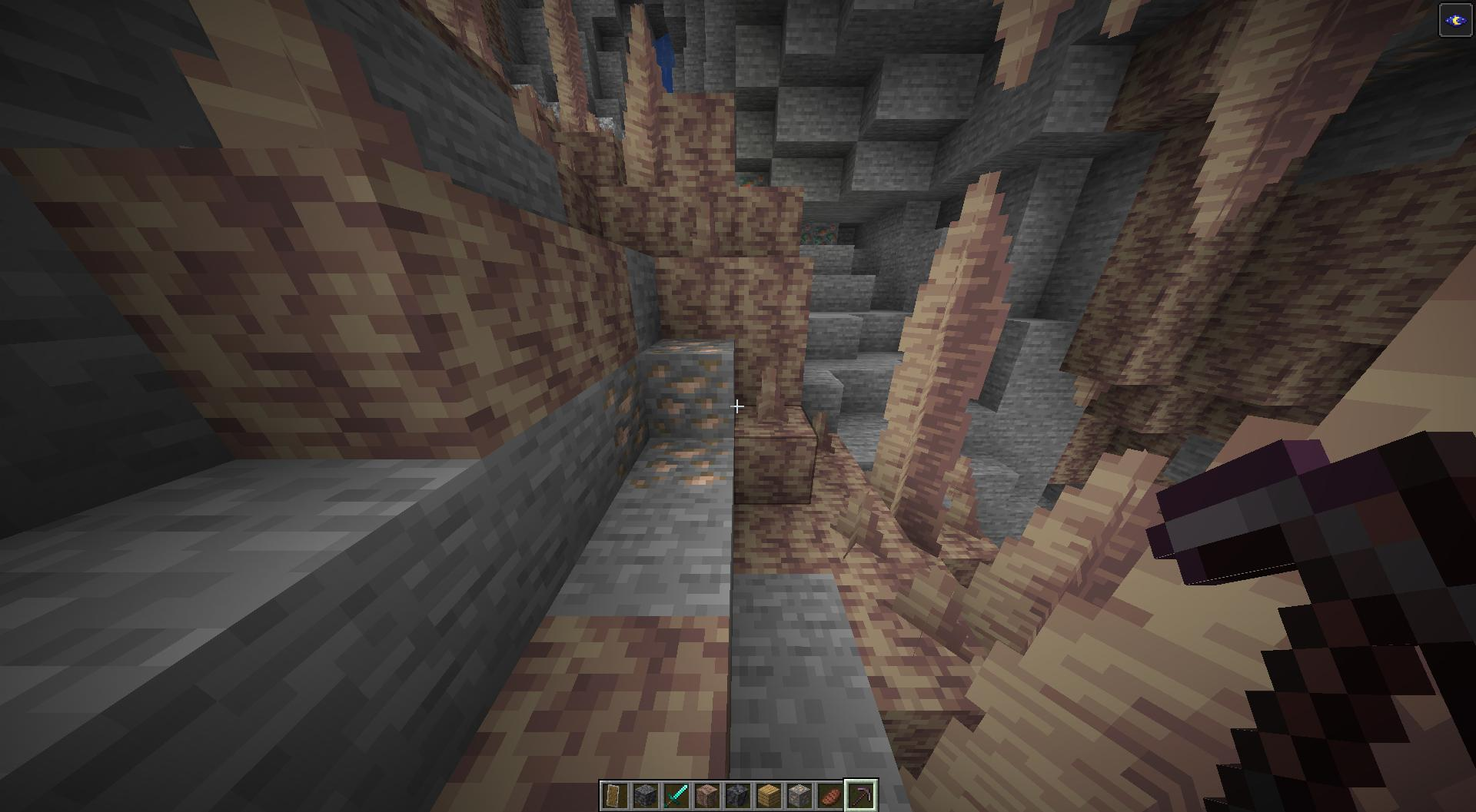iron ore: (641, 337, 738, 435), (623, 436, 740, 488), (601, 363, 649, 464)
